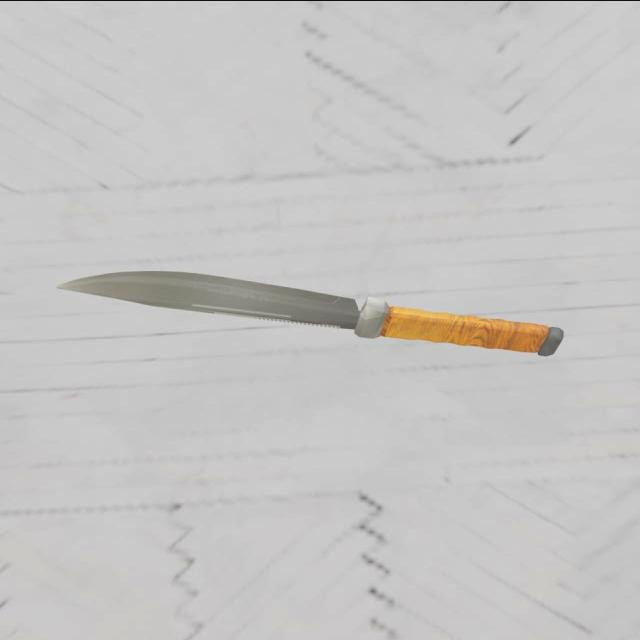knife: (358, 312, 558, 356)
